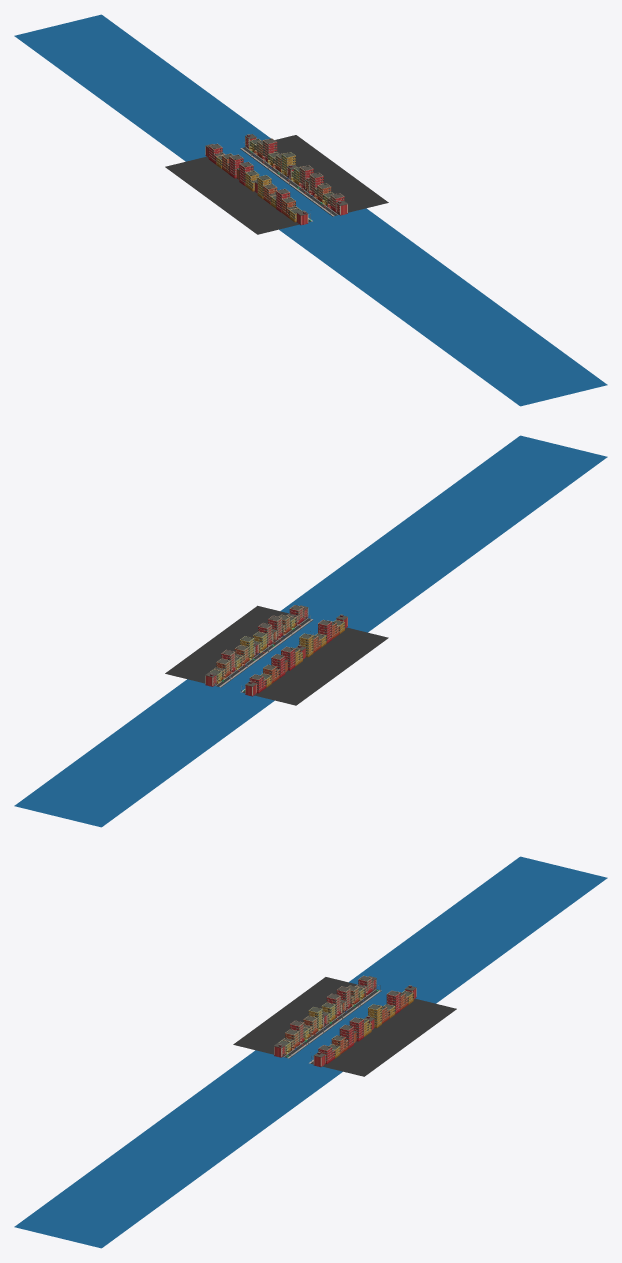
File: CanalCalle.glb
3 views of the same model, one above another, from view 1: azimuth 30°, elevation 25°; view 2: azimuth 150°, elevation 25°; view 3: azimuth 330°, elevation 25° (orthographic).
Visible parts, largest first — view 1: Env_Water_Tile, road_square_mesh, road_square_mesh.001; view 2: Env_Water_Tile, road_square_mesh, road_square_mesh.001; view 3: Env_Water_Tile, road_square_mesh.001, road_square_mesh.
Boxes of the visible parts, x1=… form: Env_Water_Tile: x1=14, y1=14, x2=607, y2=406; road_square_mesh: x1=165, y1=156, x2=299, y2=234; road_square_mesh.001: x1=246, y1=135, x2=388, y2=214; Env_Water_Tile: x1=14, y1=435, x2=607, y2=827; road_square_mesh: x1=254, y1=627, x2=388, y2=705; road_square_mesh.001: x1=165, y1=605, x2=307, y2=685; Env_Water_Tile: x1=14, y1=856, x2=607, y2=1248; road_square_mesh.001: x1=322, y1=998, x2=456, y2=1076; road_square_mesh: x1=233, y1=977, x2=375, y2=1056.
Size of the model in its own units: 300 by 42.6 by 2000.
Materials: 834 (834 with a texture image).
